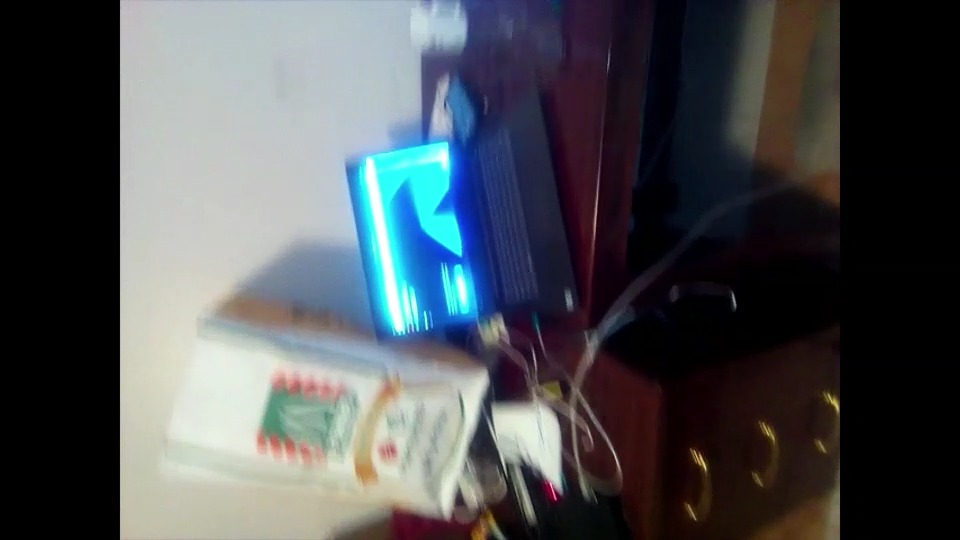maize_flour_green_label: (199, 304, 488, 522)
